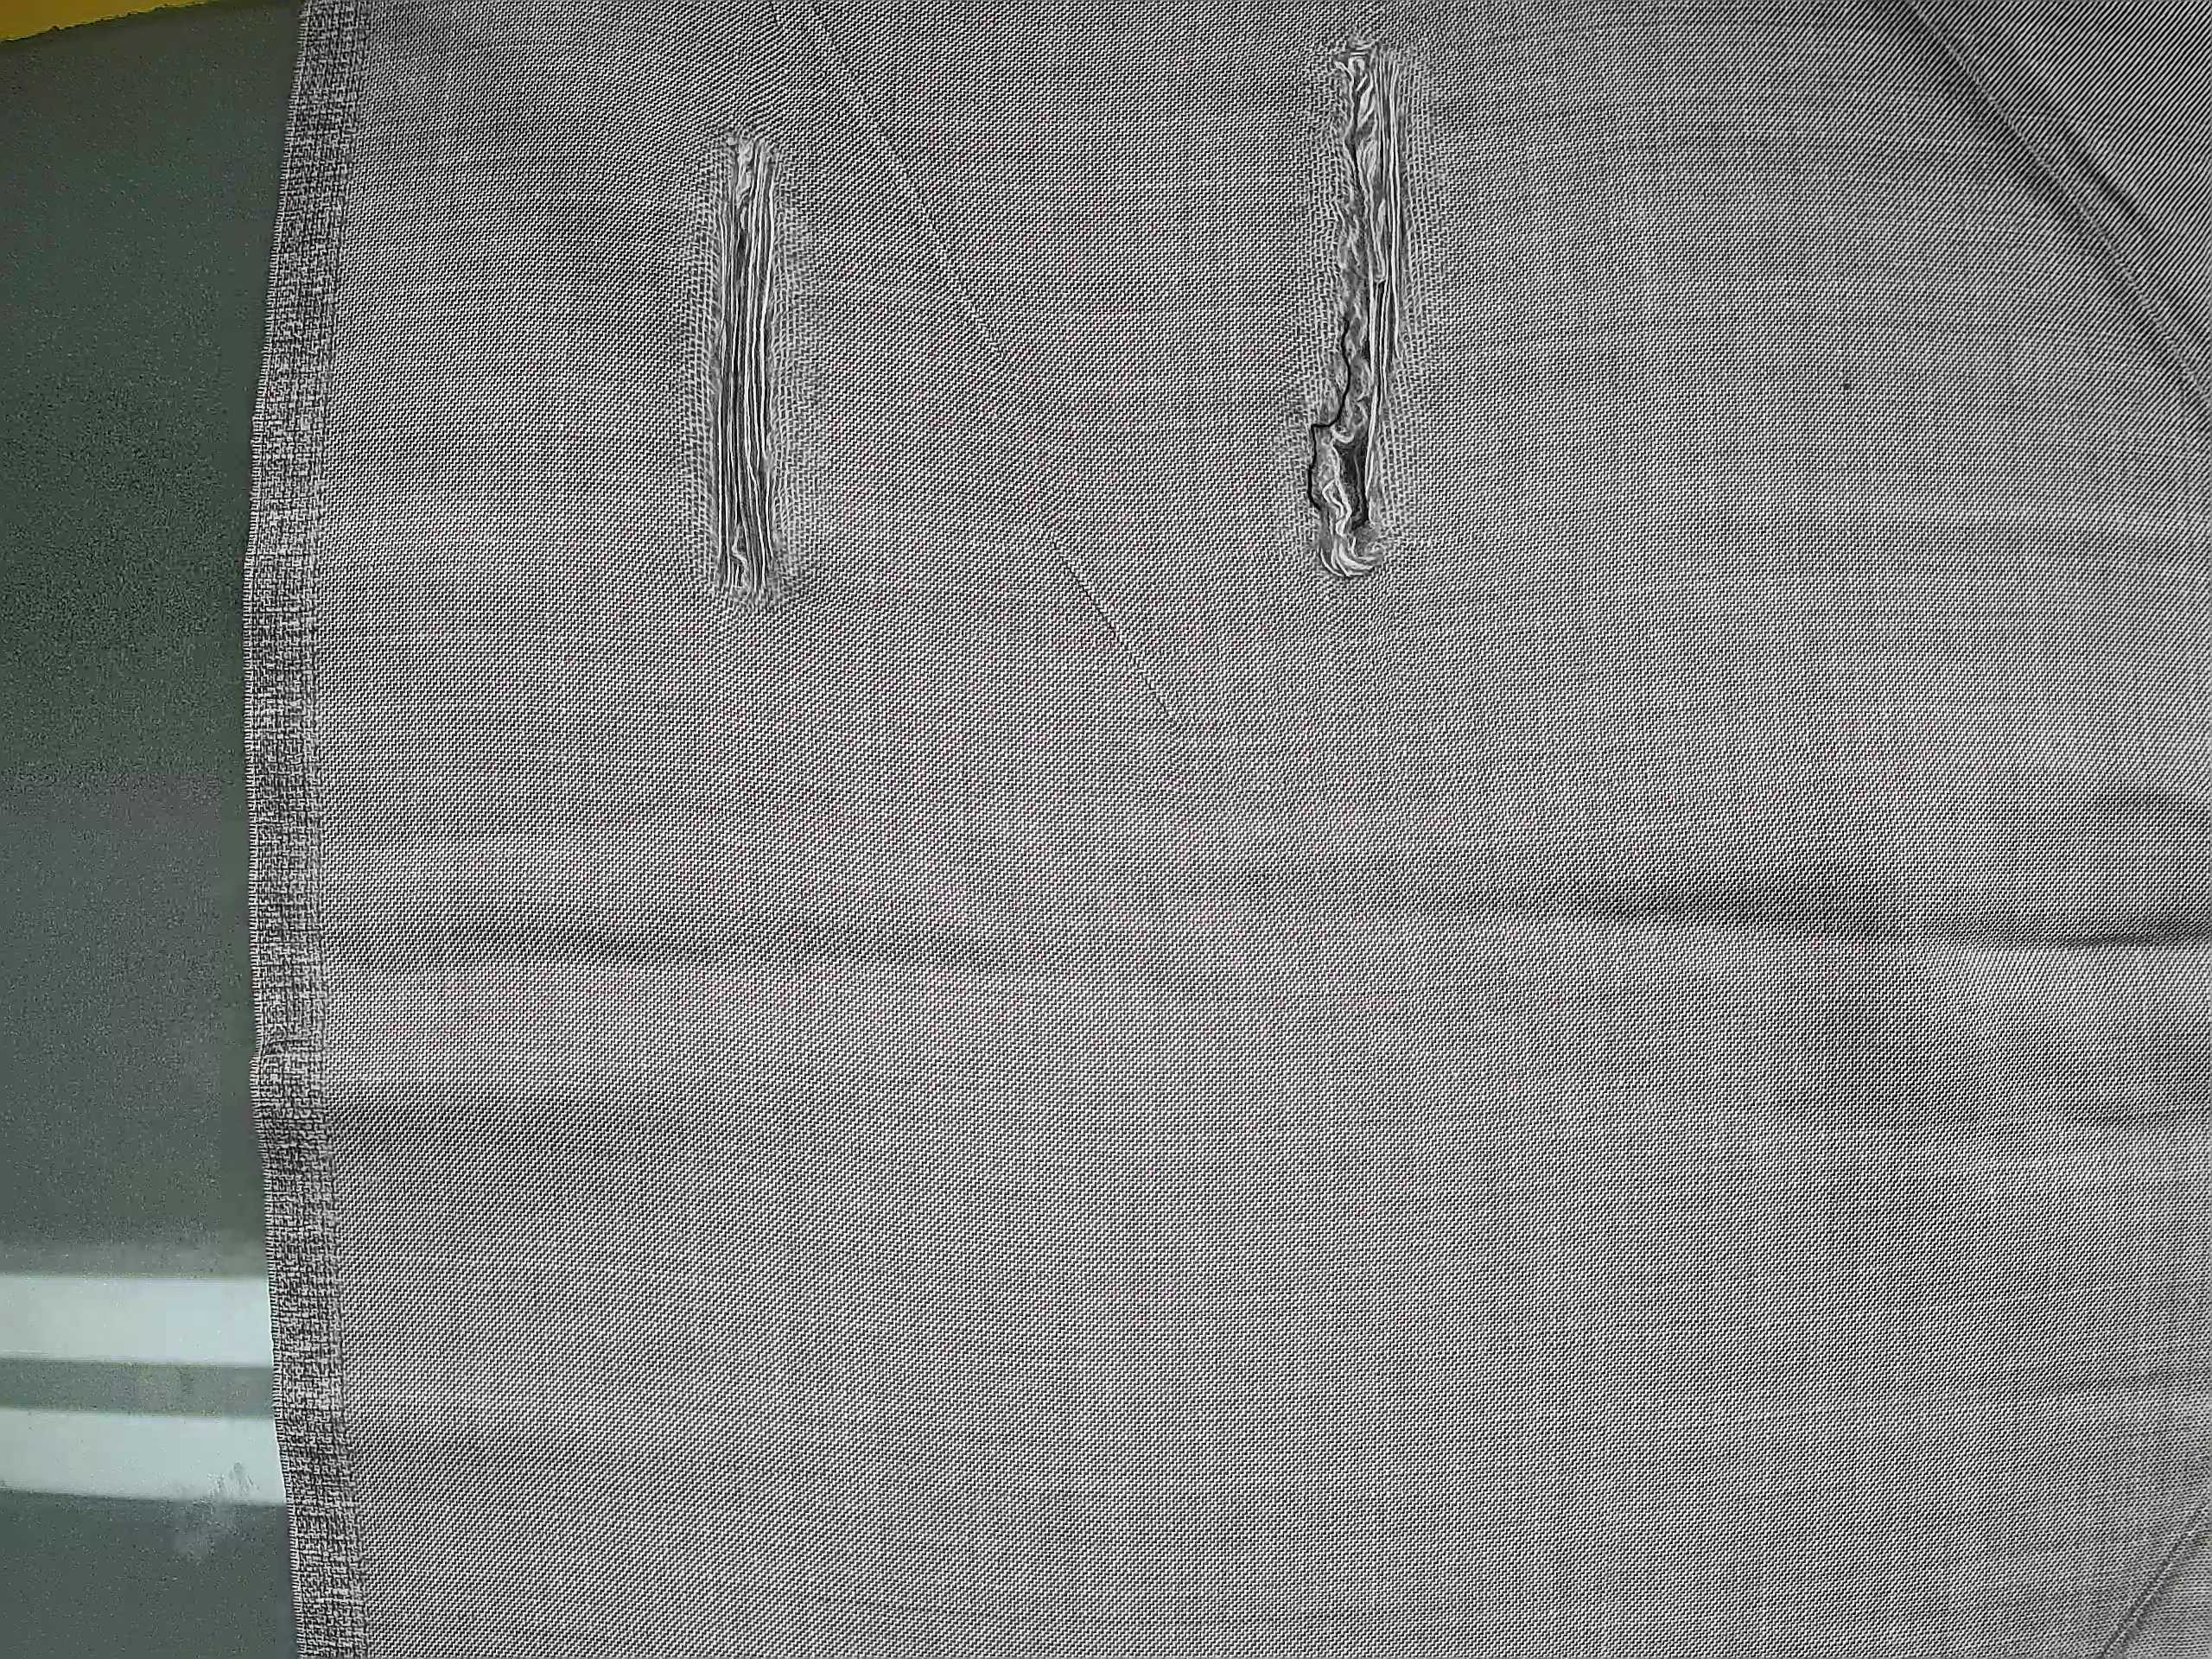rubbing-hole: (1284, 17, 1433, 605), (667, 124, 810, 626)
